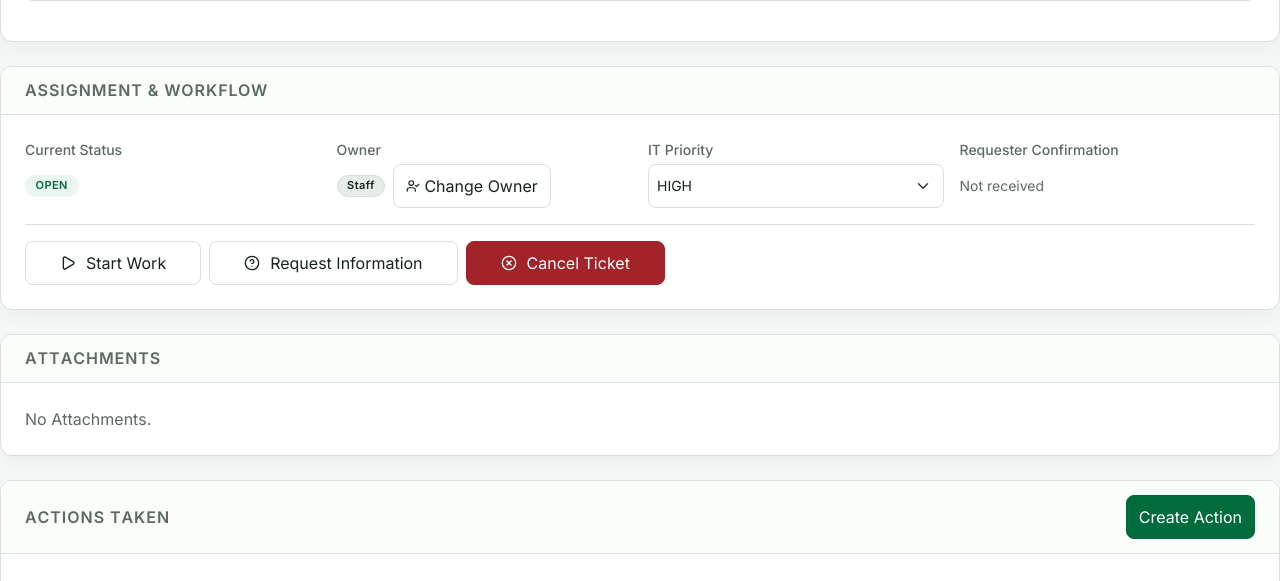
Scenario: UI-15–20/22 Staff Detail @issue-5 › UI-20 Request Information validates message, submits to endpoint, and updates state
(page scrolled)
Click the button "Request Information": (333, 263) [209,241,458,285]
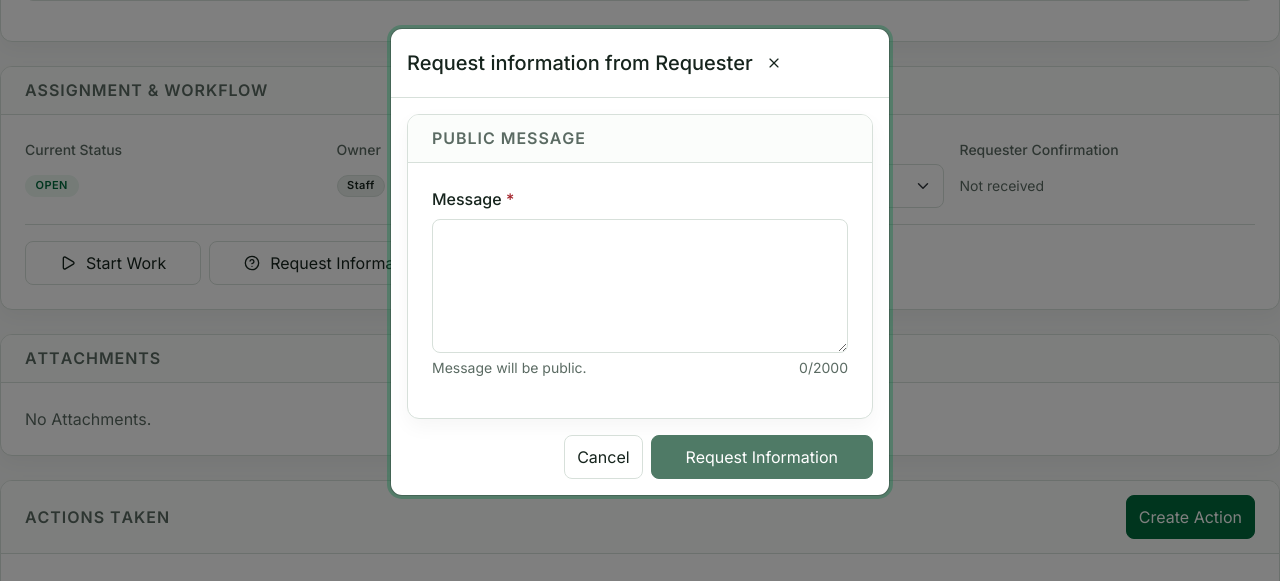
expect the button "Request Information" is disabled: met, box [651,435,873,479]
In the text box labelled "Message *": (640, 286) [432,219,848,353], type "Need details"
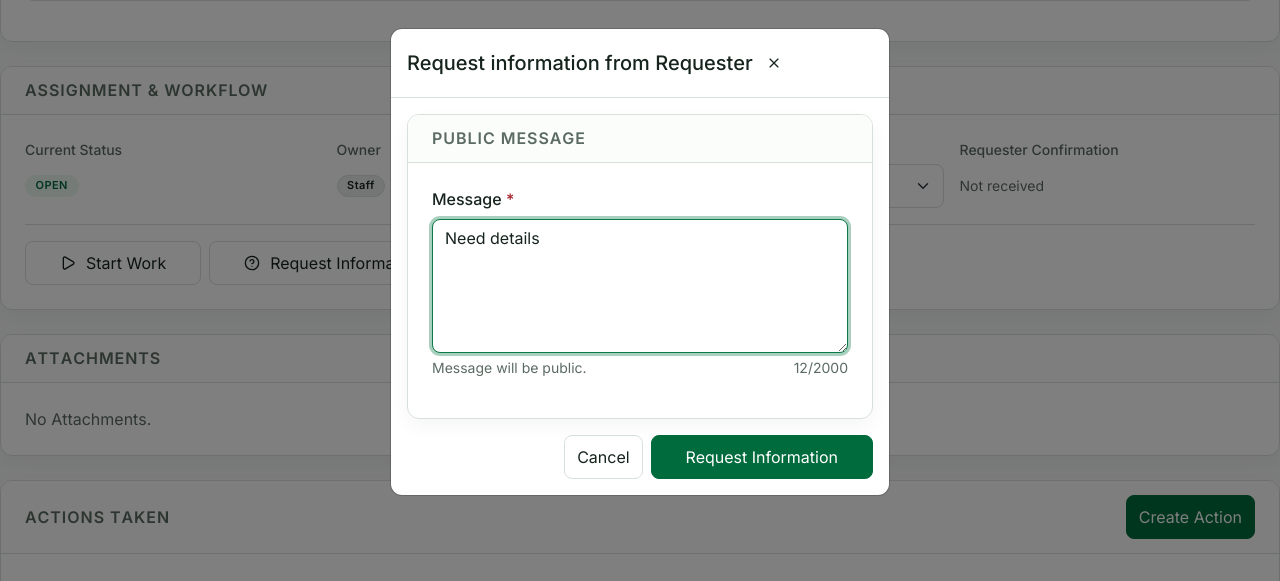
Click the button "Request Information": (762, 457) [651,435,873,479]
(page scrolled)
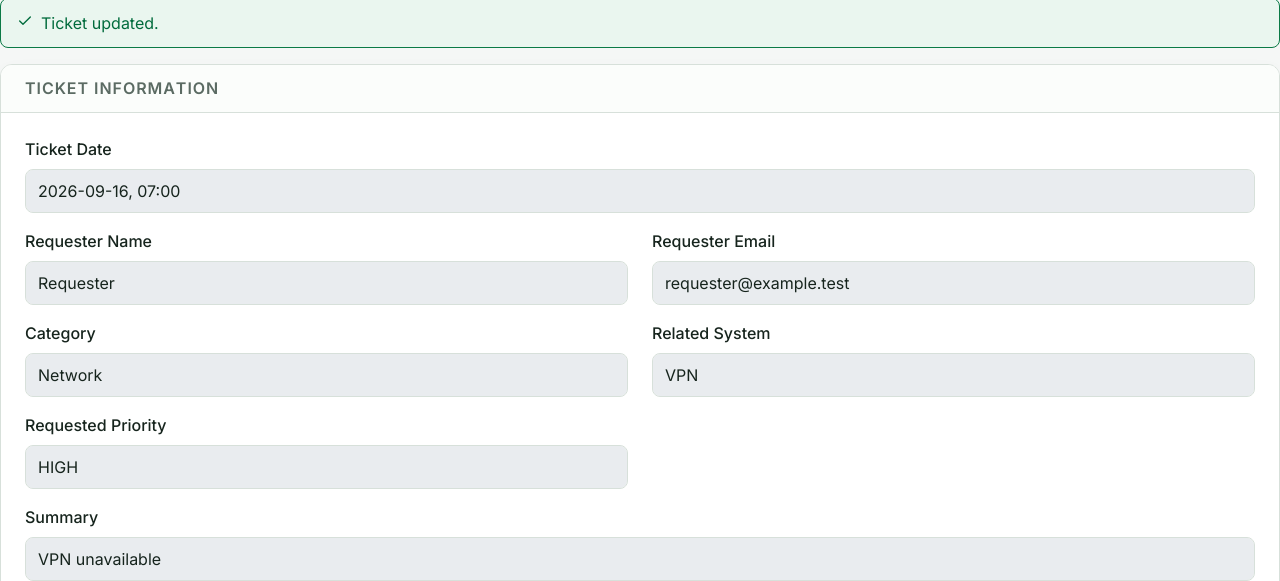
expect the text "Ticket updated." is shown: met, box [41,11,159,35]
